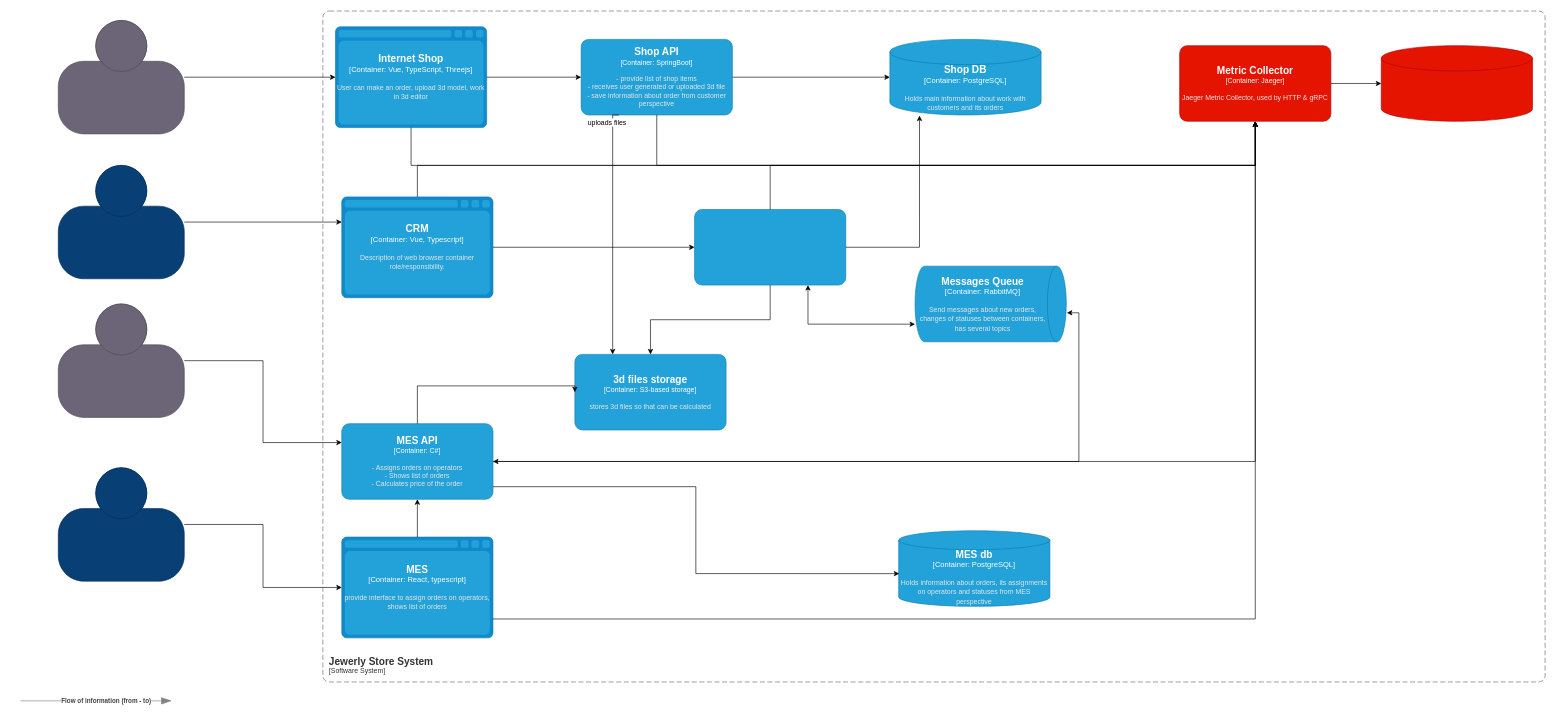
Some shapes in this 1556 by 722 pixel diagram are drawn without their labels. Each missing label, with the box of its shape:
API user [Person] Description of external person.: (58, 303, 184, 417)
CRM API [Container: SpringBoot] Description of container role/responsibility.: (694, 209, 846, 285)
Customer [Person] Description of external person.: (58, 20, 184, 134)
Jaeger Storage [Container: Elasticsearch]: (1381, 45, 1532, 121)
Operator [Person] Takes order in work, manufactures jewerly: (58, 467, 184, 581)
Seller [Person] Operates with order, confirms manufacturing for the user: (58, 165, 184, 279)
